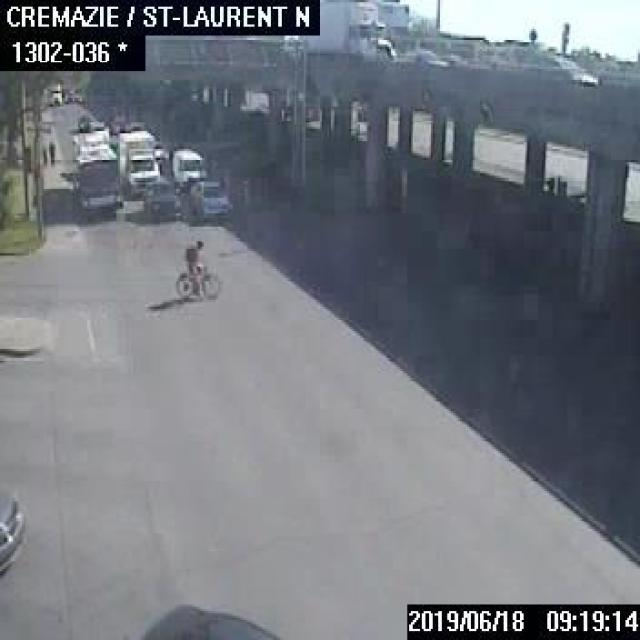bus: (70, 132, 124, 215)
construction: (240, 176, 249, 204)
cyclist: (173, 236, 222, 300)
pedestrian: (46, 140, 55, 164), (41, 146, 46, 163)
vehicle: (292, 0, 397, 62), (136, 598, 284, 638), (517, 47, 592, 86), (118, 130, 160, 197), (0, 489, 29, 575), (187, 179, 232, 219), (172, 145, 210, 189), (142, 178, 181, 220), (87, 118, 108, 138), (46, 81, 61, 104), (76, 112, 94, 131)
